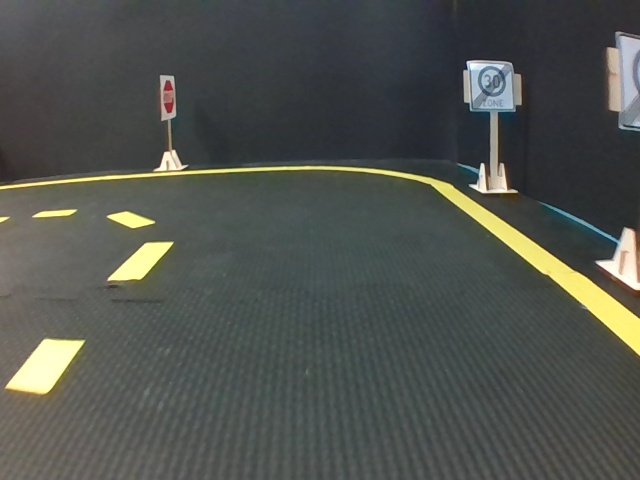no30: (469, 59, 514, 109), (618, 35, 640, 128)
stop: (159, 75, 177, 119)
